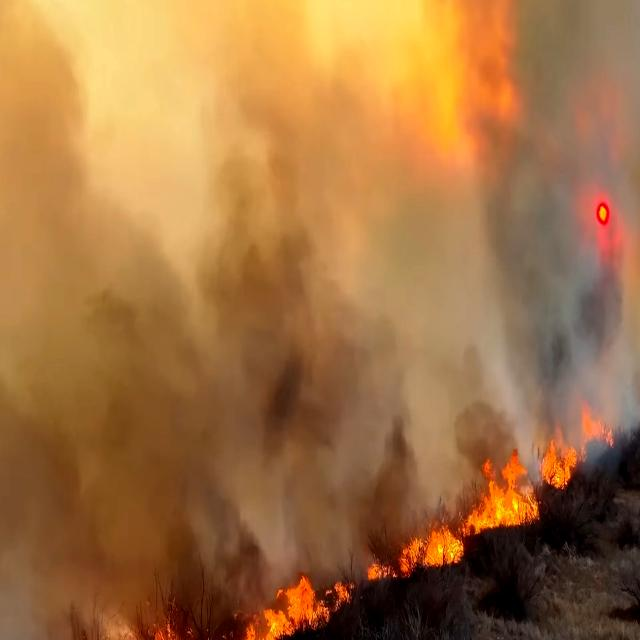fire: (401, 445, 544, 572), (90, 607, 189, 640)
smoke: (18, 28, 384, 588), (0, 0, 640, 183)
